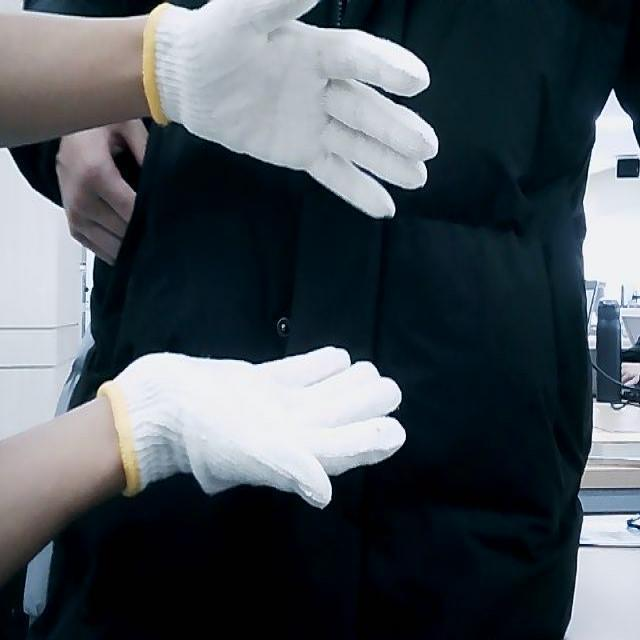GLOVE: (146, 0, 441, 223), (103, 342, 407, 512)
